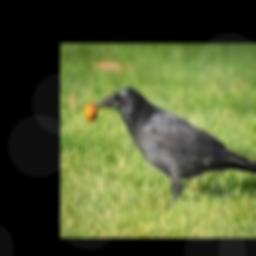Crow: (94, 85, 256, 201)
